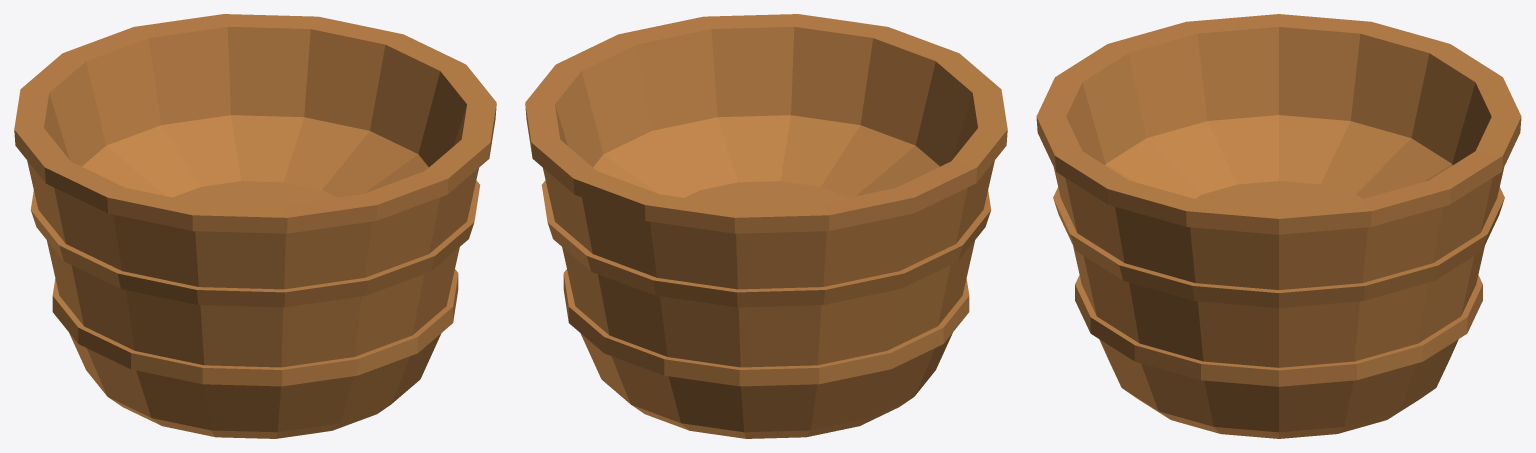
Rendered from Barrel.fbx.
3 renders of one model, left to right at view 1: azimuth 30°, elevation 25°; view 2: azimuth 150°, elevation 25°; view 3: azimuth 270°, elevation 25°, orthographic.
Parts seen in each view (by area): view 1: Circle; view 2: Circle; view 3: Circle.
Part boxes in pixels (x1,y1,x2,y2): Circle: [14, 14, 496, 438]; Circle: [525, 14, 1007, 438]; Circle: [1036, 14, 1521, 438].
Size of the model in its own units: 261 by 153 by 261.
